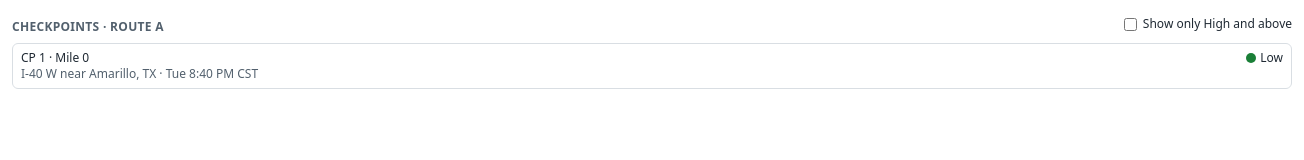
Test: CheckpointList › says so when nothing is High or worse
The width and height of the screenshot is (1304, 160).
Click the checkbox. click: (1130, 24)
box: top-left (1124, 18), bottom-right (1137, 30)
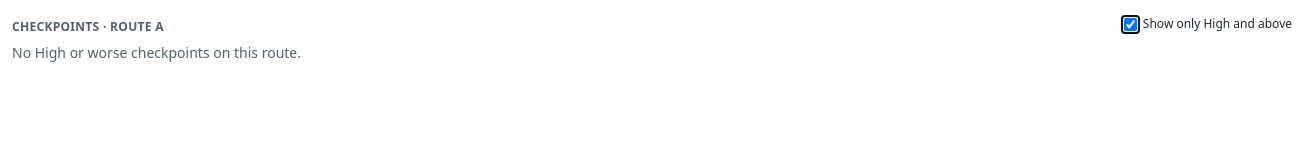
Now the text "No High or worse checkpoints on this route." is shown, box top-left (12, 42), bottom-right (301, 62)
